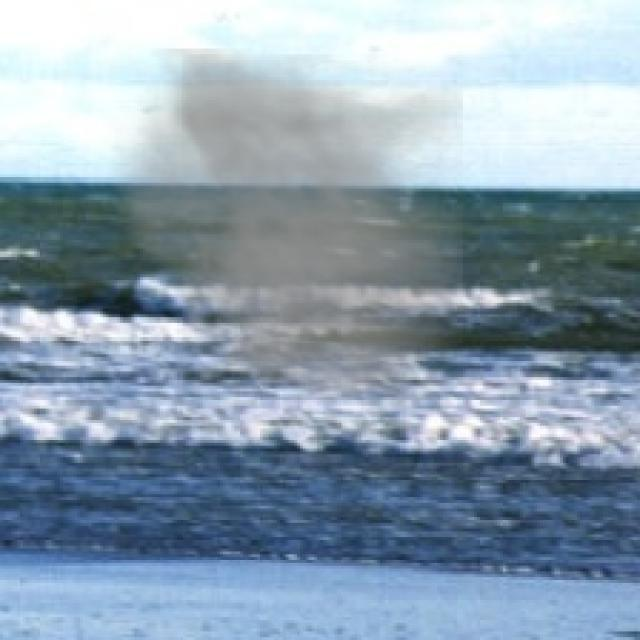smoke: (100, 49, 463, 408)
